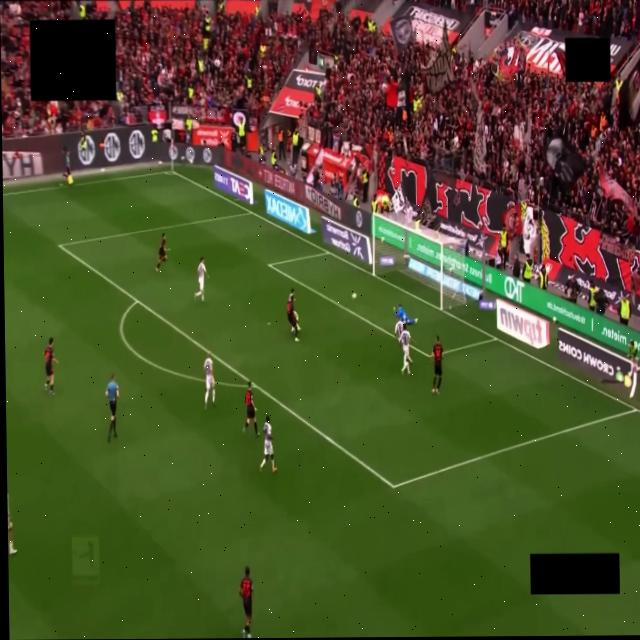ball: (351, 293, 355, 299)
player: (259, 416, 276, 473), (239, 566, 252, 637), (242, 382, 258, 436), (430, 336, 442, 394), (44, 338, 56, 395), (286, 289, 299, 341), (203, 352, 214, 407), (399, 324, 411, 374), (194, 257, 207, 301), (7, 496, 15, 555), (155, 233, 167, 271), (394, 305, 417, 324), (394, 319, 402, 340)
referee: (105, 375, 118, 442)
